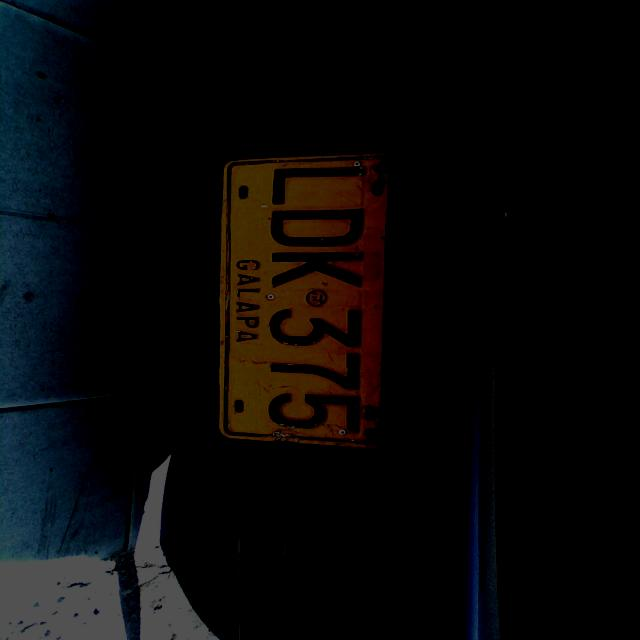placa: (215, 150, 394, 462)
